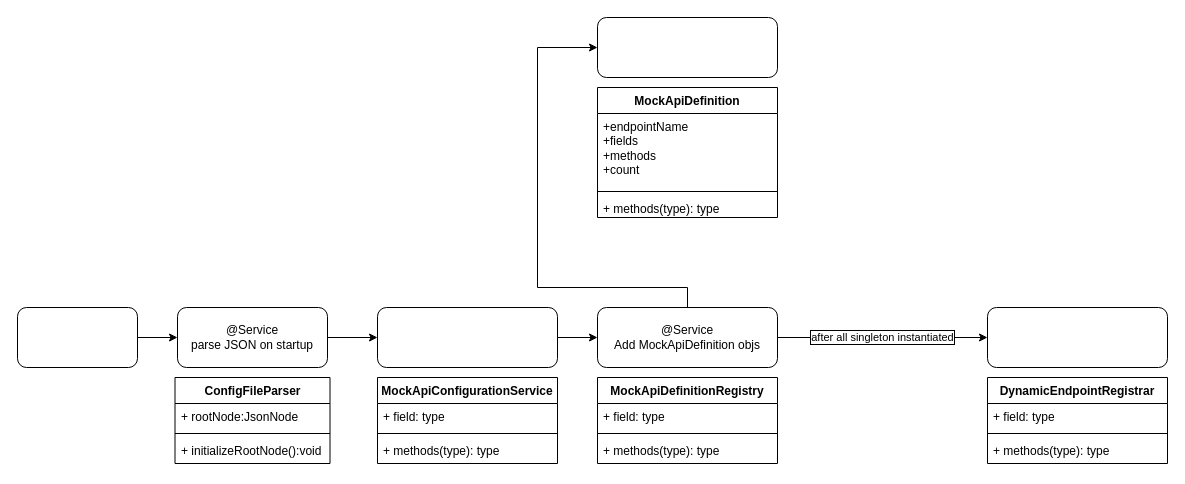
The diagram is 1185 pixels wide and 484 high, and some of its shapes have lost their labels. Each missing label, with the centre of its shape:
"@Service -" goes at [1077,337].
"@Service Register the MockApiDefinition" goes at [467,337].
"API endpoint definition" goes at [687,47].
"App run" goes at [77,337].
